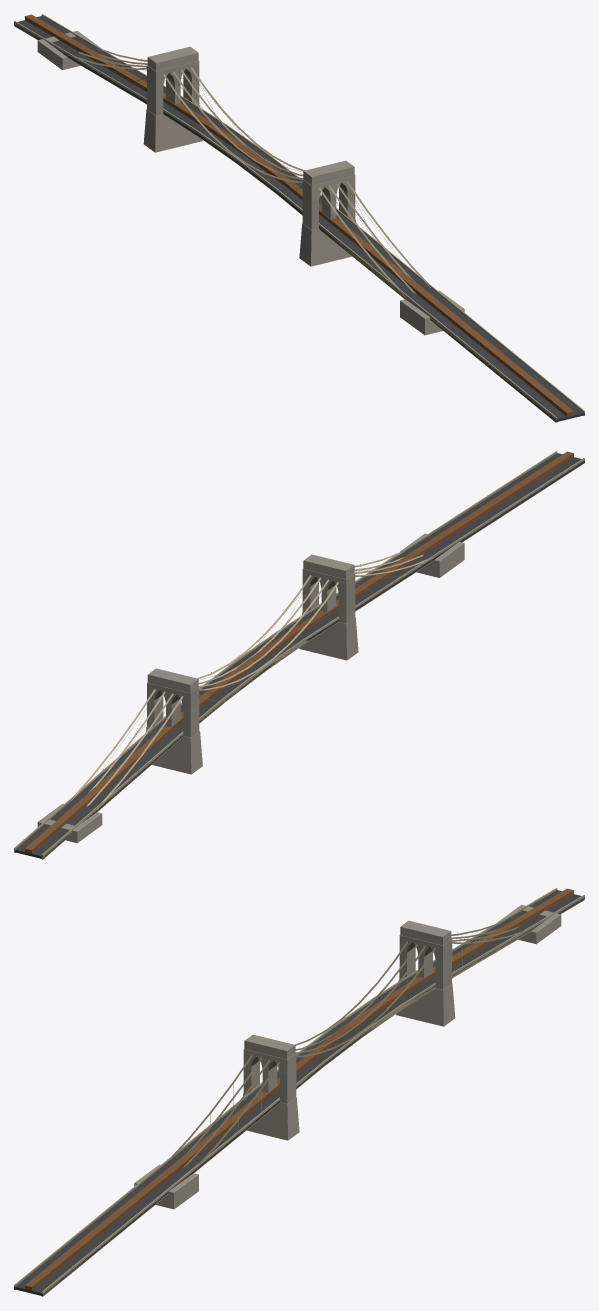
3 renders of one model, top to bottom at view 1: azimuth 30°, elevation 25°; view 2: azimuth 150°, elevation 25°; view 3: azimuth 330°, elevation 25°, orthographic.
Visible parts, largest first — view 1: brooklyn-bridge-lod2; view 2: brooklyn-bridge-lod2; view 3: brooklyn-bridge-lod2.
Boxes of the visible parts, box(x1,y1,x2,y2) form: brooklyn-bridge-lod2: box(14, 14, 584, 422); brooklyn-bridge-lod2: box(14, 451, 584, 859); brooklyn-bridge-lod2: box(14, 888, 584, 1296).
Bounding box in the file's own units: 85.97 × 151 × 1693.
